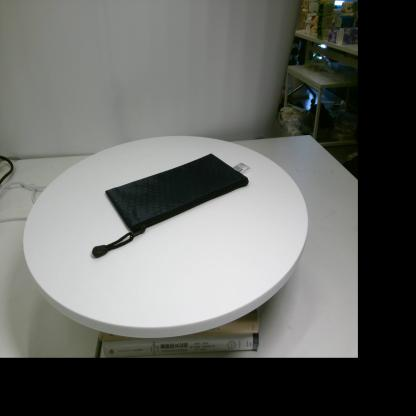Stationery: (92, 153, 250, 258)
